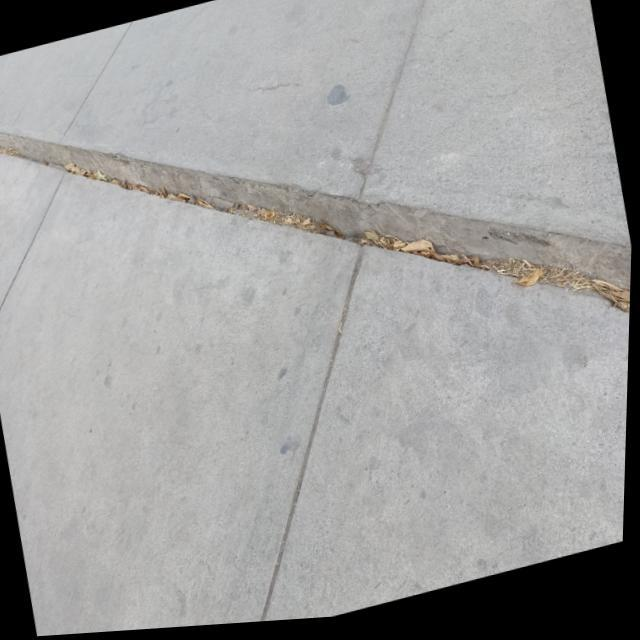bump: (217, 173, 605, 303)
